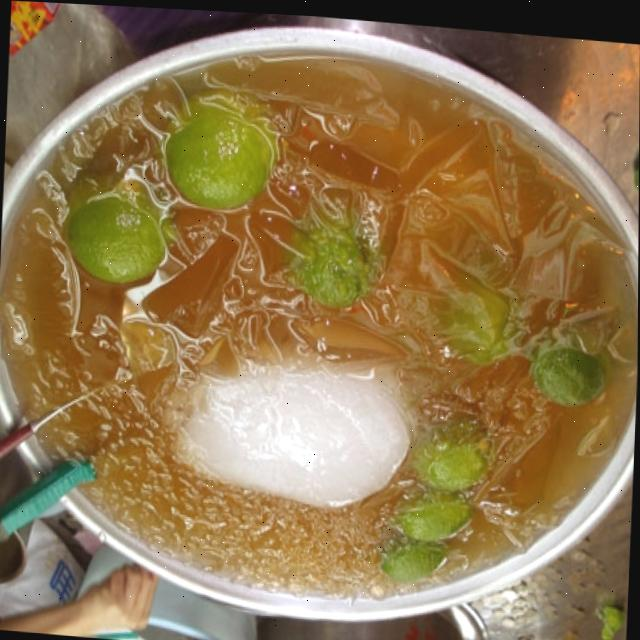蛋糕甜品: (0, 15, 614, 640)
